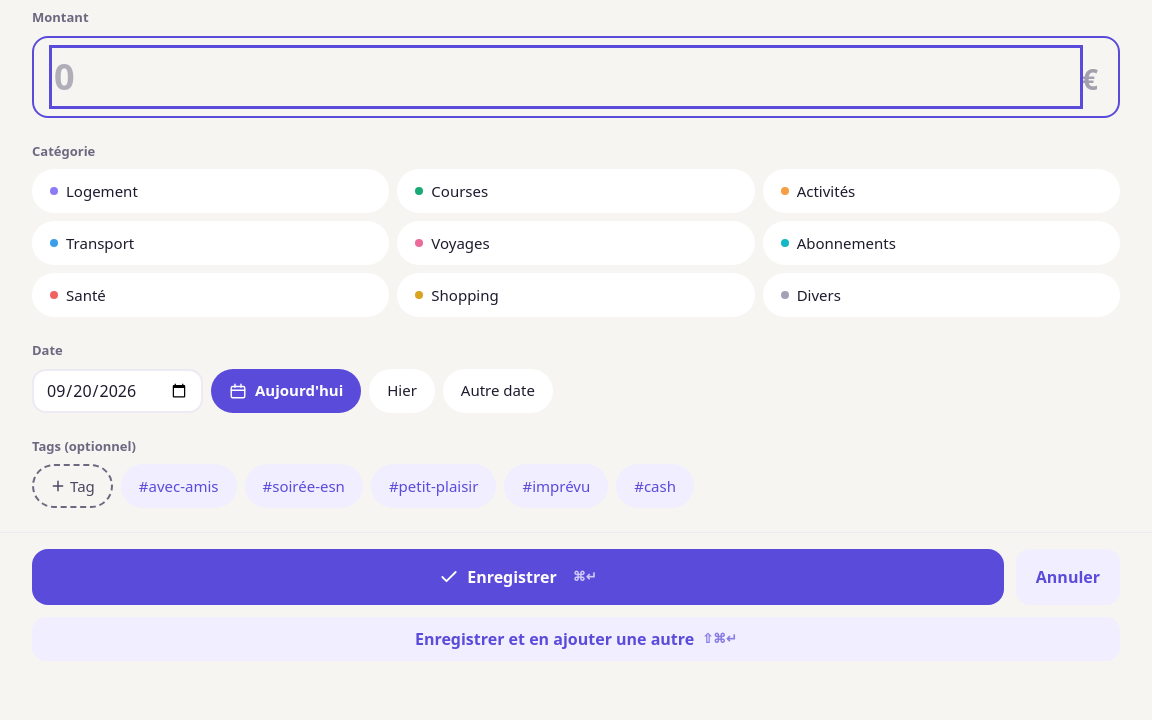
ExpenseForm › nettoie ce qui est tapé au clavier
The width and height of the screenshot is (1152, 720).
Step 1. Type "1a2.456" into the field labelled "Montant" → (566, 76), box [54,50,1078,104]
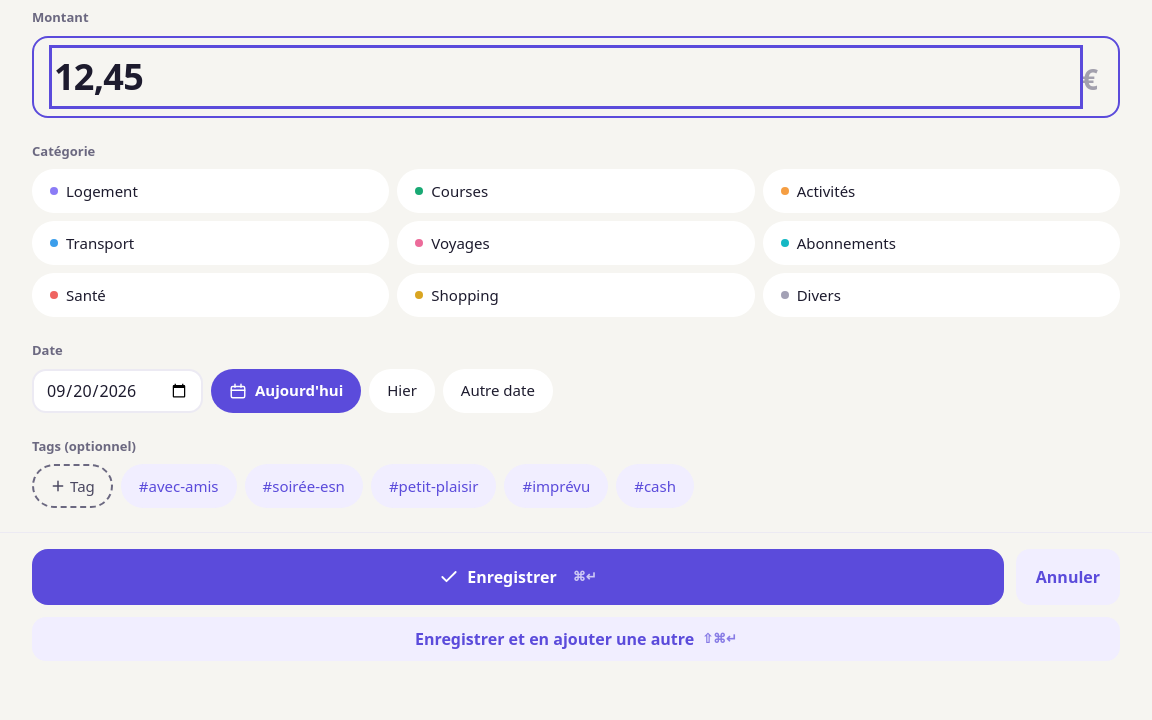
Expected: the field labelled "Montant" holds "12,45", [54,50,1078,104]
